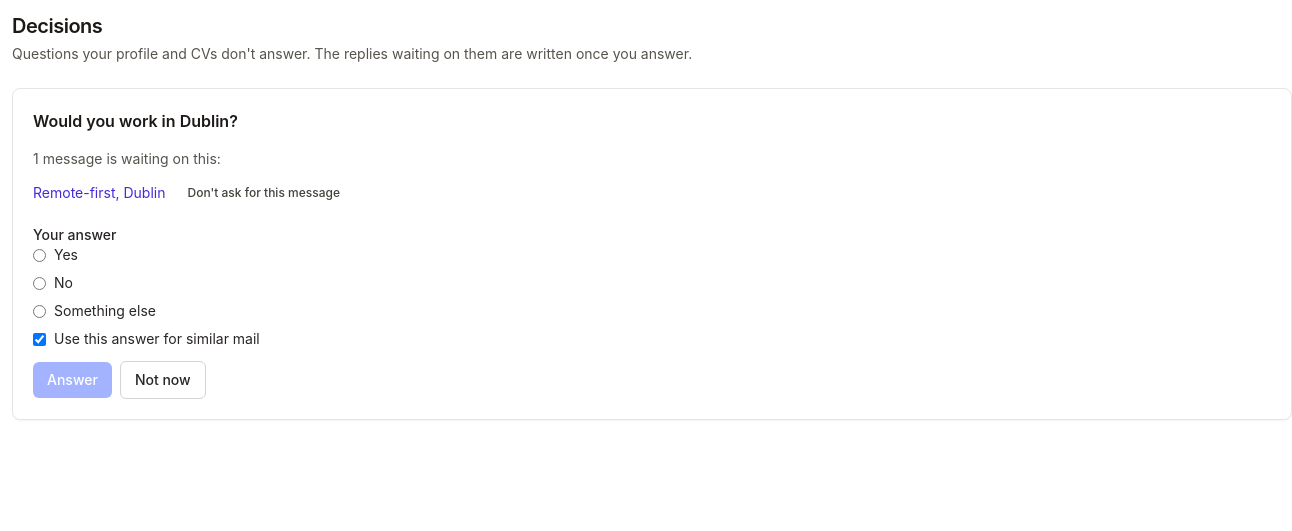
the Decisions page (F7.2) › says when an answer can only answer the waiting messages: a yes no item can be made of, own words
Expected: the heading "Would you work in Dublin?" is shown, [33,111,238,131]
Click the radio button labelled "Yes": (40, 255) [33,248,46,262]
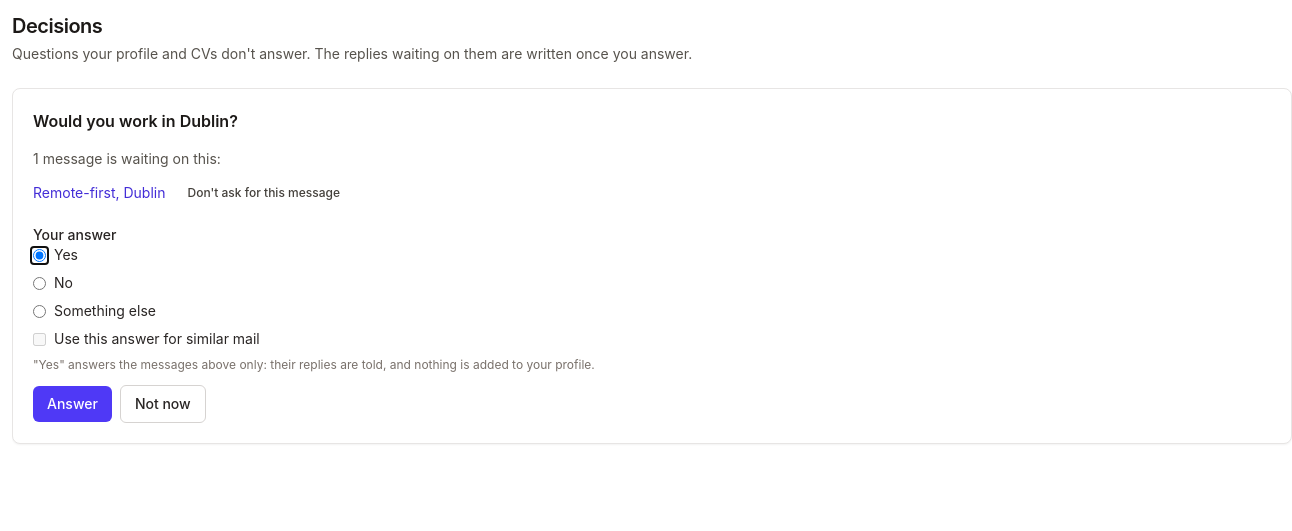
Expected: the checkbox labelled "Use this answer for similar mail" is disabled, [33,332,46,346]
Expected: the text "\"Yes\" answers the messages above only" is shown, [33,357,595,372]
Click the radio button labelled "Something else": (40, 311) [33,304,46,318]
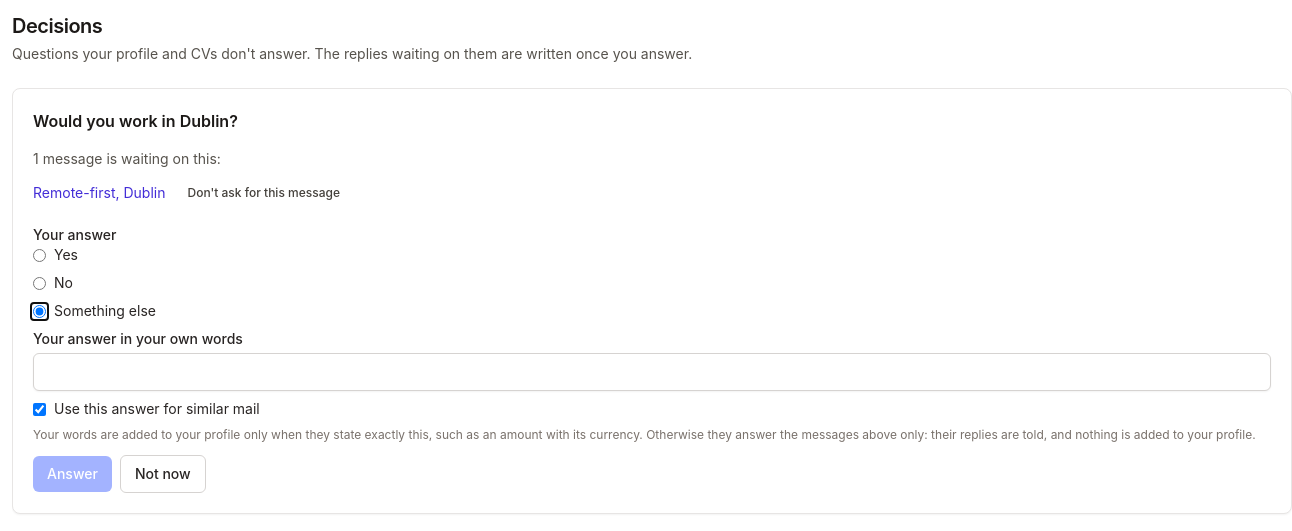
Expected: the checkbox labelled "Use this answer for similar mail" is enabled, [33,402,46,416]
Expected: the text "only when they state exactly this" is shown, [33,427,1256,442]
